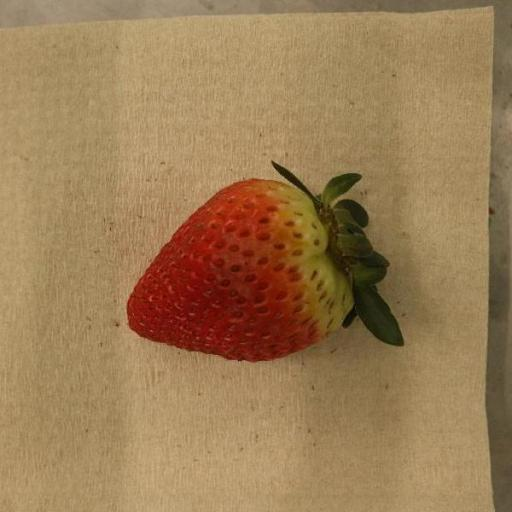Strawberry: (127, 162, 406, 364)
